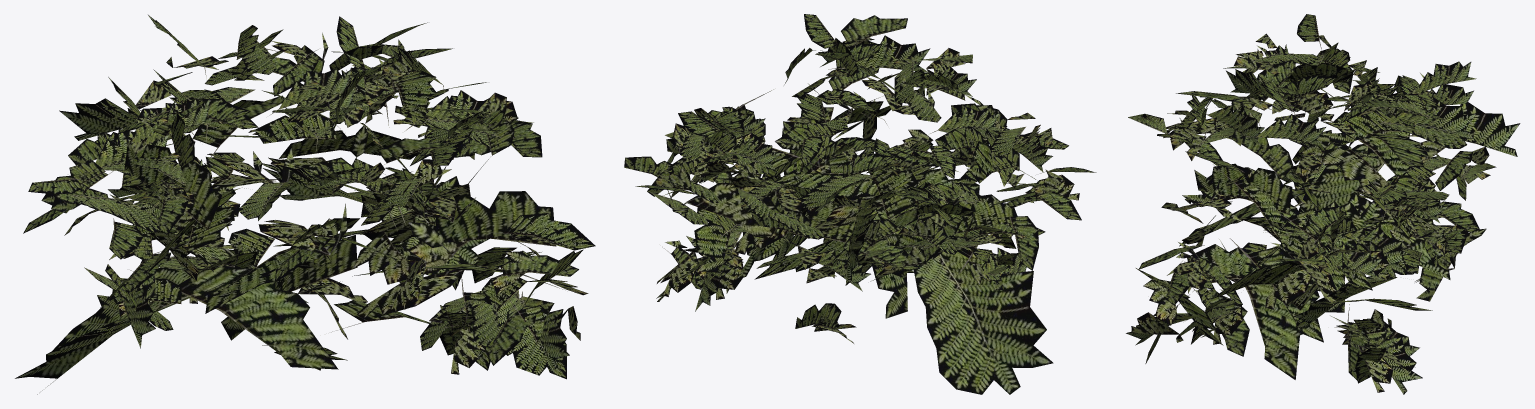
File: jacaranda_L1_hojas.glb
The picture shows the model from 3 angles, left to right: view 1: azimuth 30°, elevation 25°; view 2: azimuth 150°, elevation 25°; view 3: azimuth 270°, elevation 25°; orthographic projection. The views are drawn at different scales.
Parts seen in each view (by area): view 1: jacaranda_tree_LOD0; view 2: jacaranda_tree_LOD0; view 3: jacaranda_tree_LOD0.
Boxes of the visible parts, <box> form: jacaranda_tree_LOD0: <box>15,15,595,394</box>; jacaranda_tree_LOD0: <box>624,14,1096,394</box>; jacaranda_tree_LOD0: <box>1126,14,1520,394</box>.
Bounding box in the file's own units: 26.45 × 16.62 × 21.41.
1 material, 1 textured.
